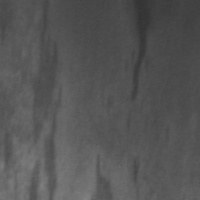inclusion: (0, 0, 68, 196), (123, 2, 155, 104), (87, 150, 118, 199), (126, 153, 150, 200)
